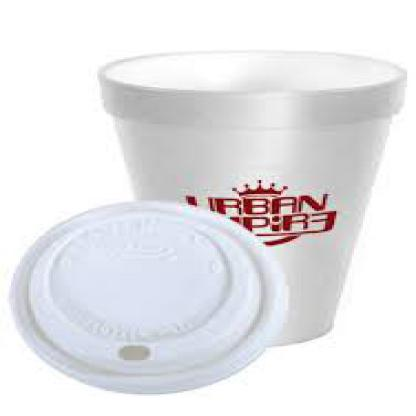paper: (100, 48, 402, 346)
table: (9, 199, 288, 391)
